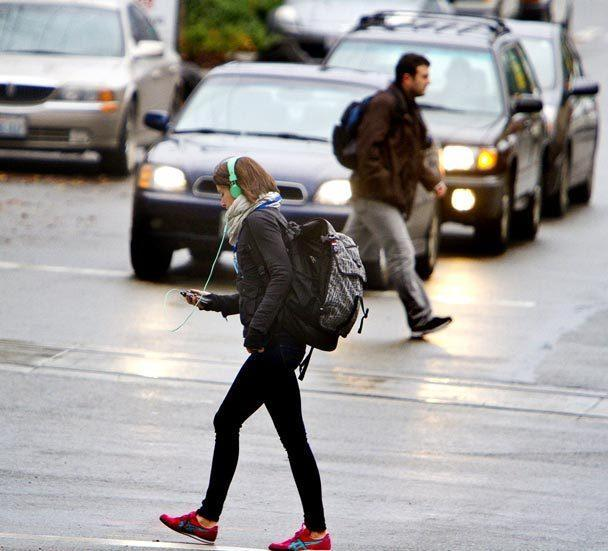car: (128, 53, 446, 295), (319, 10, 548, 257), (1, 1, 190, 166), (503, 24, 603, 208)
pedestrian: (146, 149, 378, 551), (316, 47, 477, 351)
